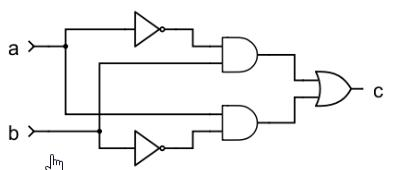and: (218, 31, 259, 80), (216, 103, 261, 146)
not: (131, 5, 167, 51), (130, 127, 169, 168)
or: (311, 65, 354, 109)
